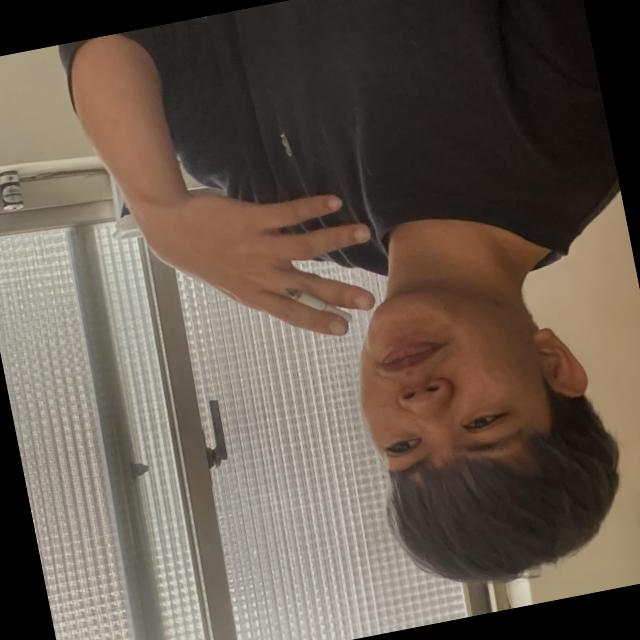cigarette: (264, 257, 359, 346)
